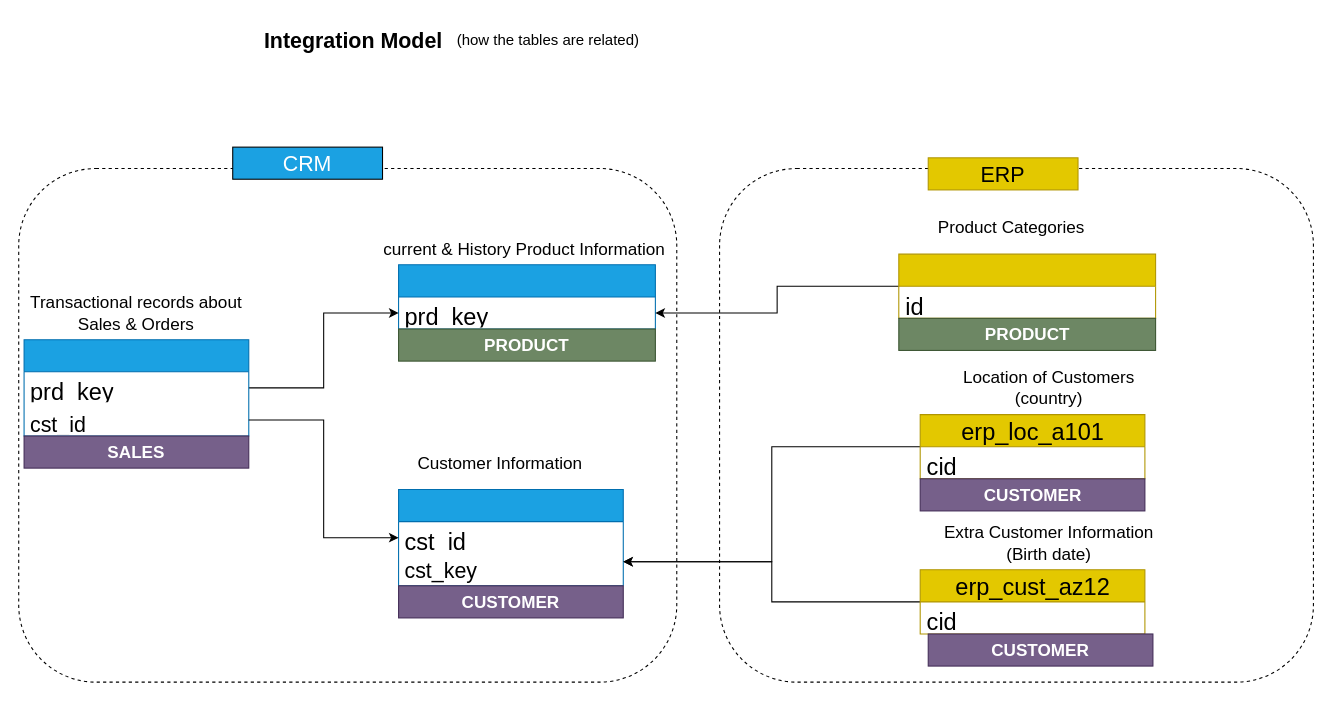
Some shapes in this 1332 by 701 pixel diagram are drawn without their labels. Each missing label, with the box of its shape:
crm_cust_info: (398, 488, 623, 586)
crm_prd_info: (398, 264, 655, 329)
crm_sales_details: (23, 339, 249, 436)
erp_px_cat_g1v2: (898, 253, 1156, 318)
